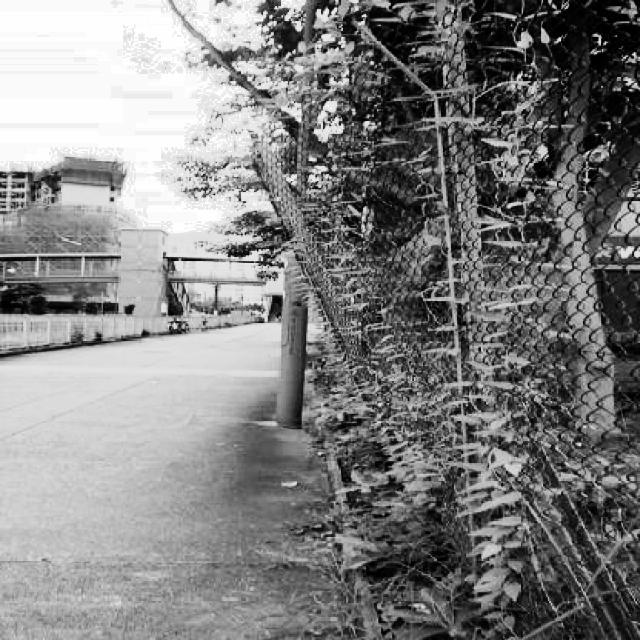anomaly-fence: (181, 64, 425, 420)
